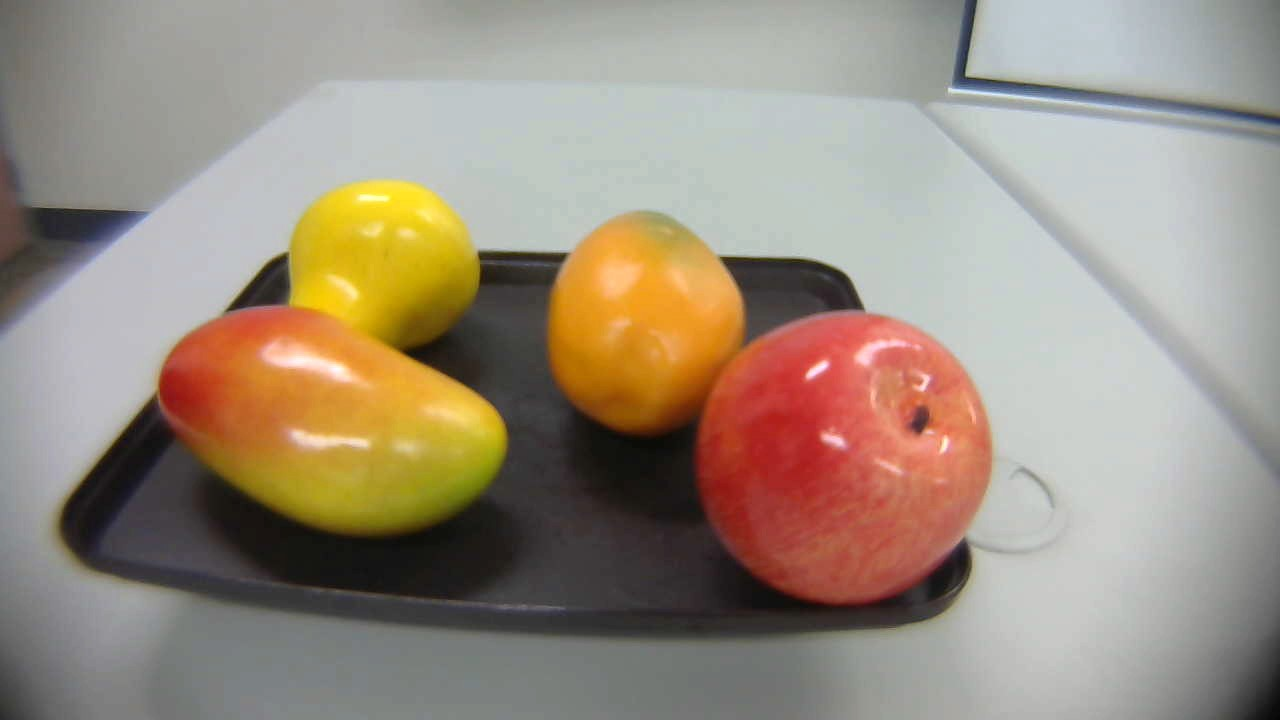papya: (542, 206, 752, 446)
red apple: (680, 306, 1000, 616)
red mango: (145, 296, 512, 541)
yellow pear: (278, 173, 495, 364)
